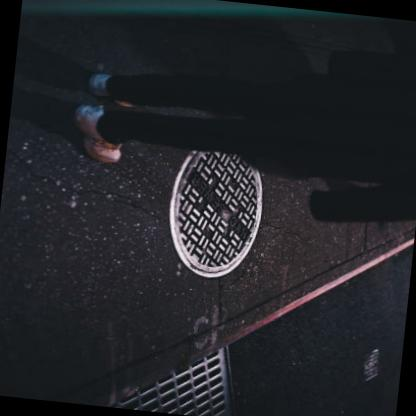manholes: (146, 128, 292, 296)
